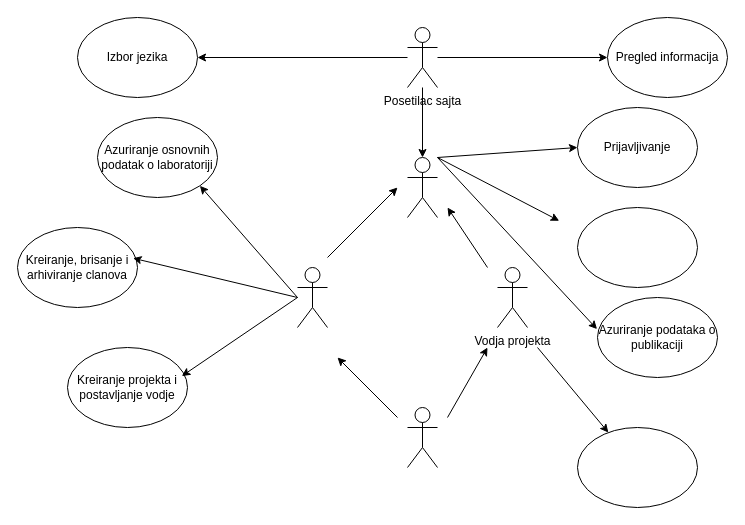
Some shapes in this 745 by 525 pixel diagram are drawn without their labels. The centre of each missing label's shape, as x and y in pixels:
"Administrator" goes at pixel 422 437.
"Azuriranje podataka o projketima koje vodi" goes at pixel 637 467.
"Azuriranje podataka o sobi" goes at pixel 637 247.
"Clan lab" goes at pixel 422 187.
"Sef laboratorije" goes at pixel 312 297.
